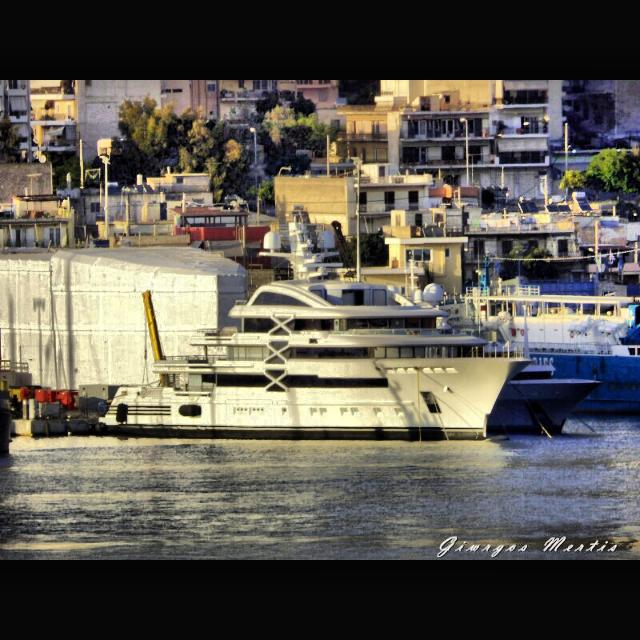yacht: (99, 221, 534, 441)
